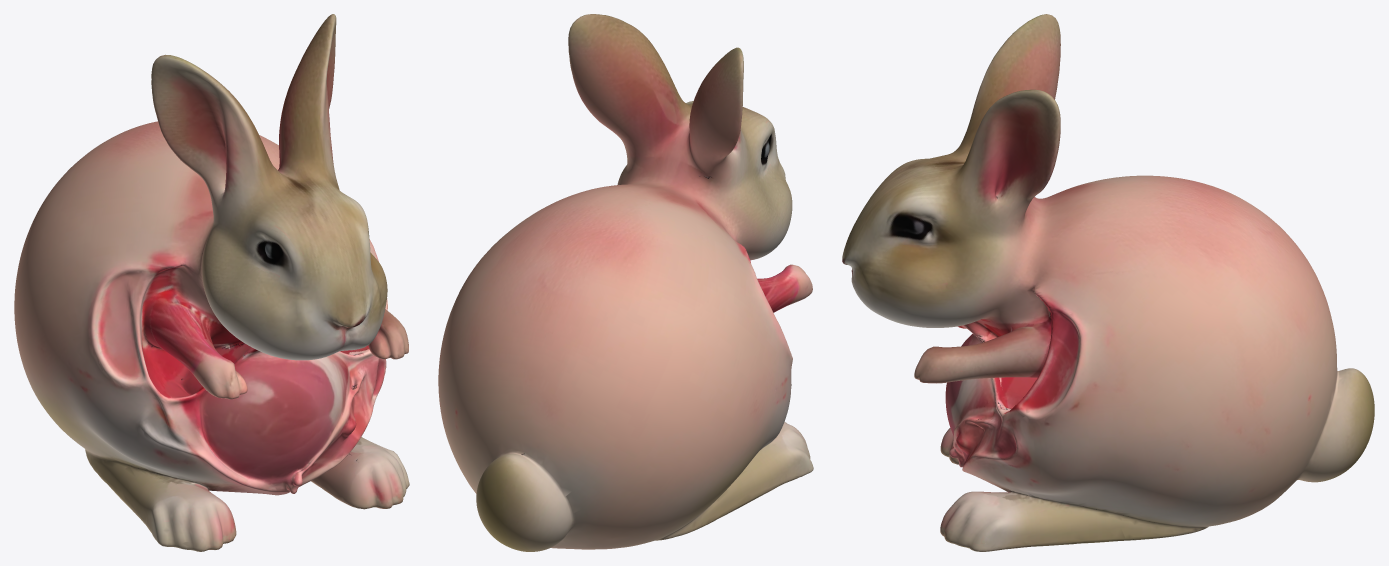
Rendered from vet_v2_path_abscess-rabbit.glb.
3 renders of one model, left to right at view 1: azimuth 30°, elevation 25°; view 2: azimuth 150°, elevation 25°; view 3: azimuth 270°, elevation 25°, orthographic. The views are drawn at different scales.
Parts seen in each view (by area): view 1: model; view 2: model; view 3: model.
Part boxes in pixels (x1,y1,x2,y2): model: (14,14,409,551); model: (438,14,813,551); model: (842,14,1374,551).
Bounding box in the file's own units: 1.22 × 1.74 × 1.9.
1 material, 1 textured.
